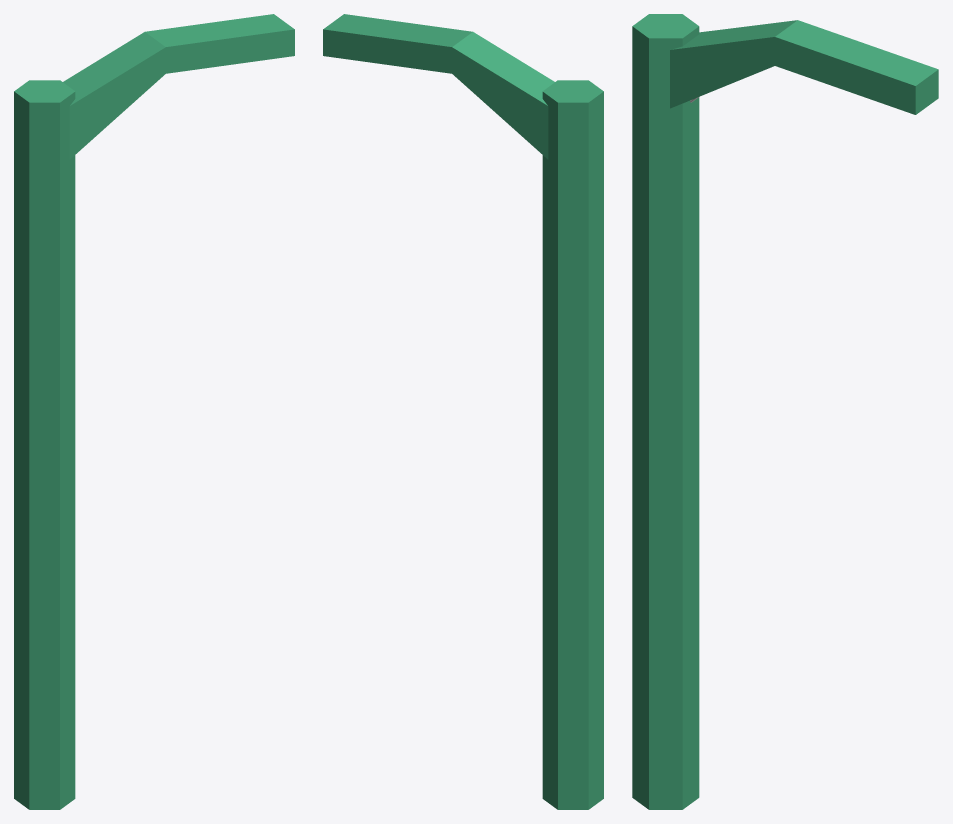
File: modularpoles3.dae
3 views of the same model, side by side, from view 1: azimuth 30°, elevation 25°; view 2: azimuth 150°, elevation 25°; view 3: azimuth 330°, elevation 25° (orthographic). The views are drawn at different scales.
Parts seen in each view (by area): view 1: Colmesh-1; view 2: Colmesh-1; view 3: Colmesh-1.
Boxes of the visible parts, x1,y1,x2,y2 form: Colmesh-1: (14,14,294,809); Colmesh-1: (323,14,603,809); Colmesh-1: (632,14,938,809).
Bounding box in the file's own units: 3.34 × 0.6746 × 8.89.
